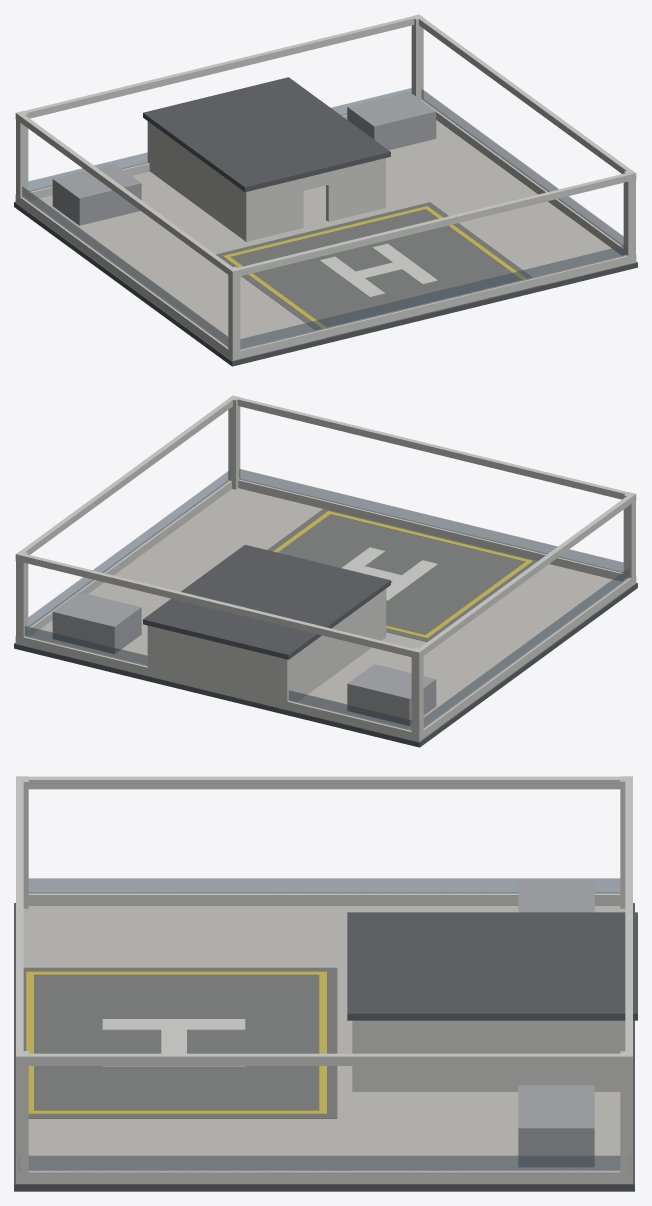
Rendered from condo-roof-a.zfix-v2.lod1.glb.
3 views of the same model, one above another, from view 1: azimuth 30°, elevation 25°; view 2: azimuth 150°, elevation 25°; view 3: azimuth 270°, elevation 25° (orthographic). The views are drawn at different scales.
Visible parts, largest first — view 1: condo-roof-a; view 2: condo-roof-a; view 3: condo-roof-a.
Part boxes in pixels (<box>): condo-roof-a: <box>14,14,637,366</box>; condo-roof-a: <box>14,395,637,747</box>; condo-roof-a: <box>14,776,637,1191</box>.
Size of the model in its own units: 26.16 by 5.83 by 24.48.
